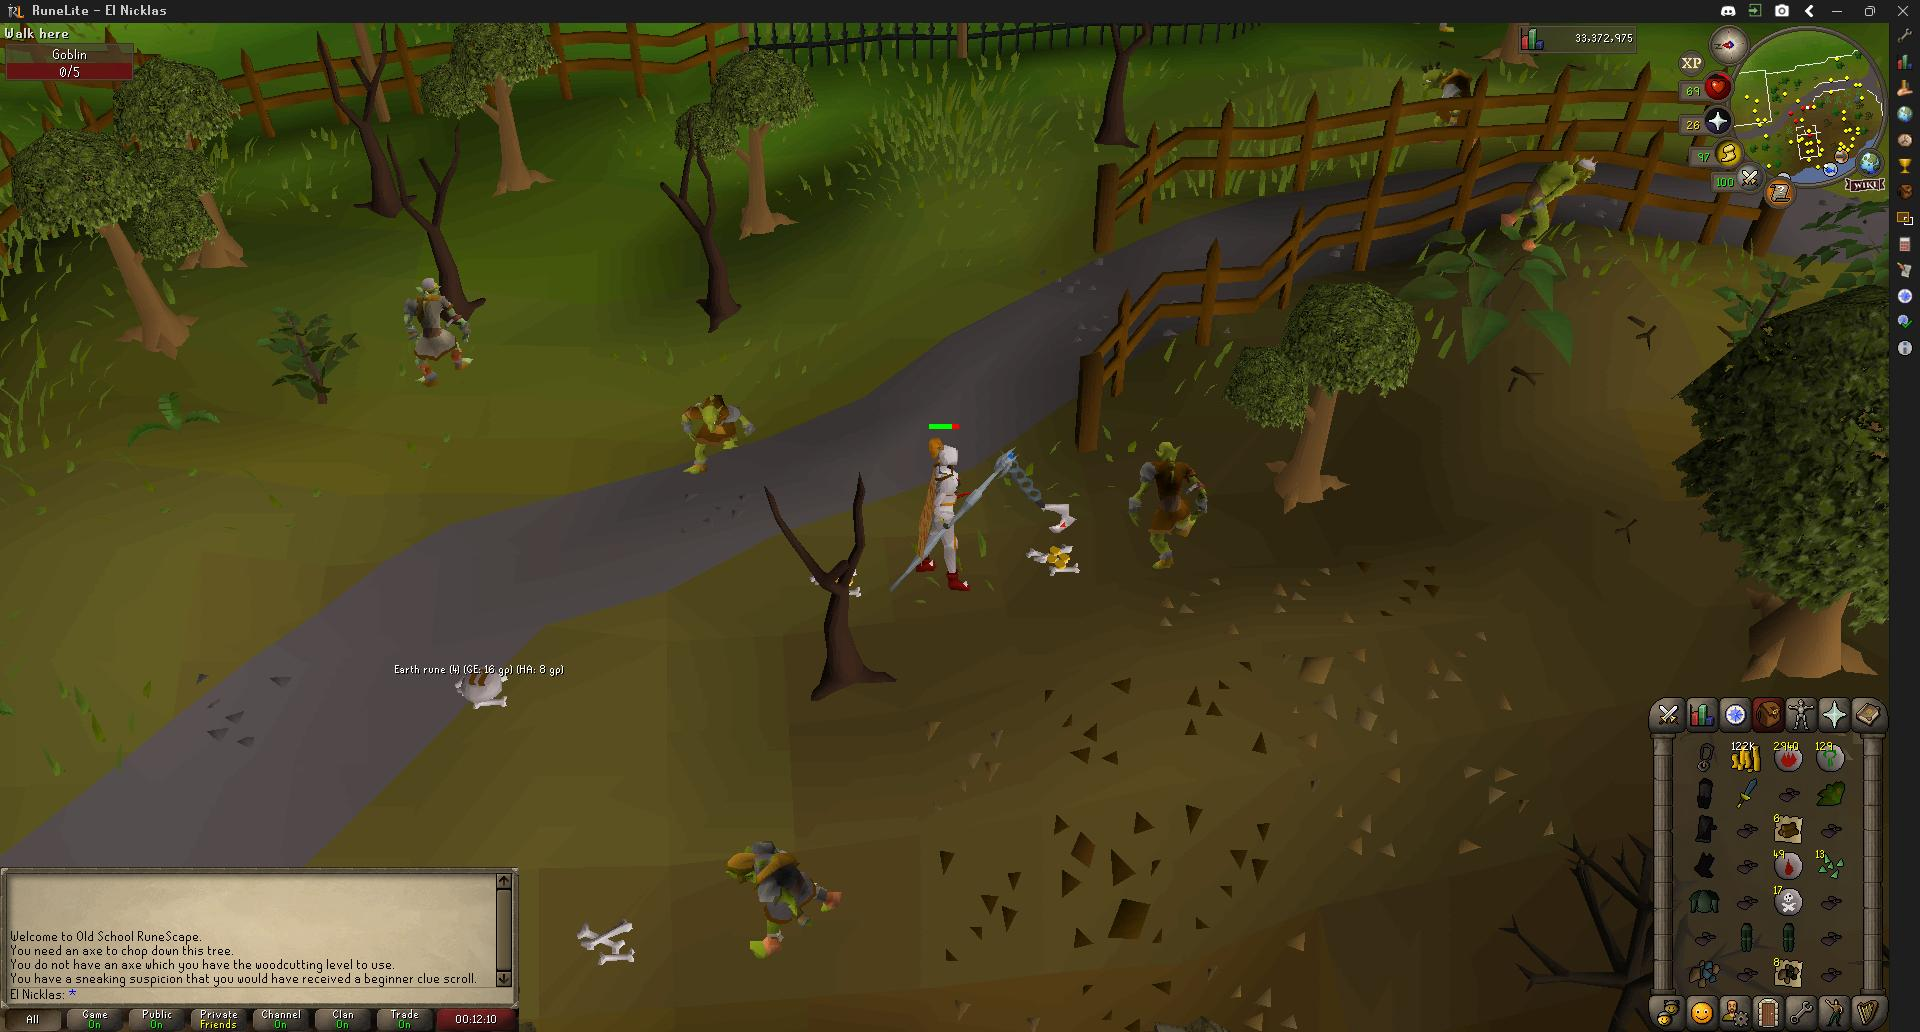Player: (907, 436, 973, 593)
goblin: (720, 840, 833, 957), (1126, 436, 1208, 566), (1506, 155, 1594, 249), (404, 276, 473, 384), (680, 391, 755, 470)
